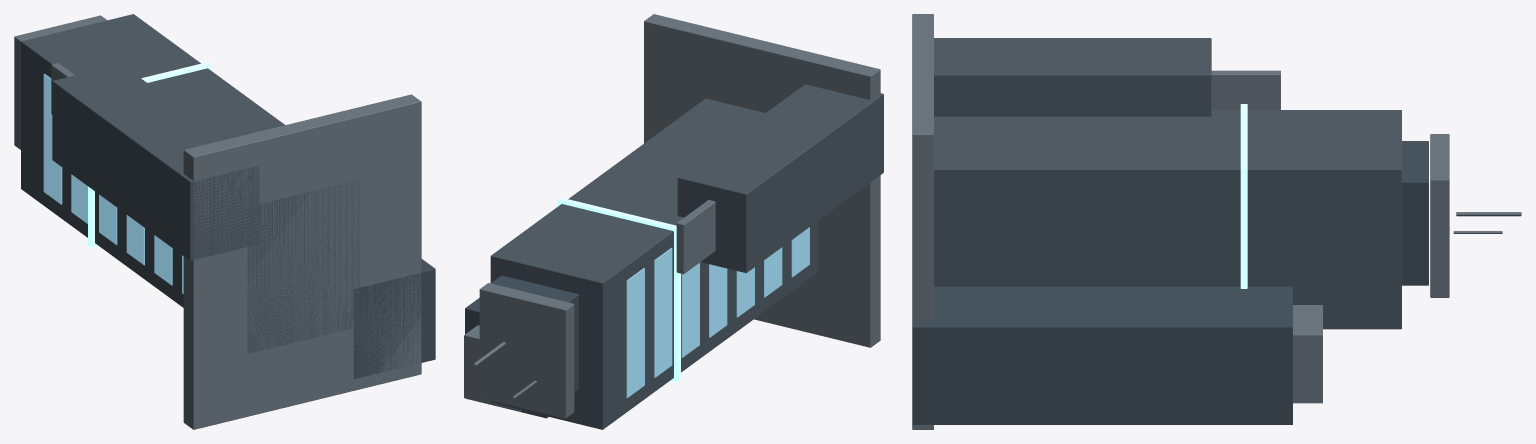
File: mass_tower_cluster_rift_r.glb
The picture shows the model from 3 angles, left to right: view 1: azimuth 30°, elevation 25°; view 2: azimuth 150°, elevation 25°; view 3: azimuth 270°, elevation 25°; orthographic projection. The views are drawn at different scales.
Visible parts, largest first — view 1: FlightKit_MassTower_rift_R; view 2: FlightKit_MassTower_rift_R; view 3: FlightKit_MassTower_rift_R.
Part boxes in pixels (box(x1,y1,x2,y2)): FlightKit_MassTower_rift_R: box(14, 14, 435, 429); FlightKit_MassTower_rift_R: box(464, 14, 883, 429); FlightKit_MassTower_rift_R: box(912, 14, 1521, 429).
Bounding box in the file's own units: 11.3 × 12 × 22.4.
